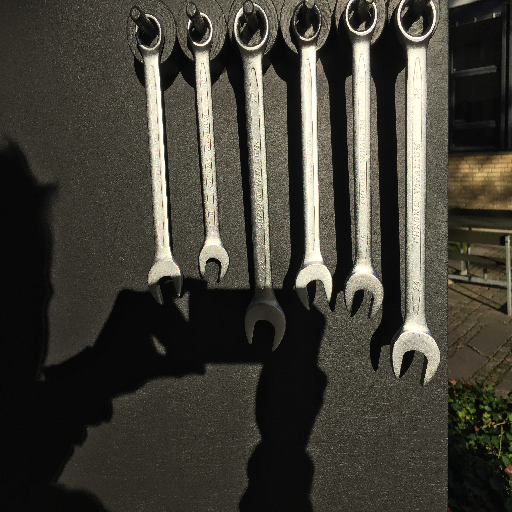bottom: (390, 322, 441, 388), (243, 298, 287, 354), (343, 263, 385, 320), (145, 256, 184, 307), (293, 262, 334, 310), (196, 238, 231, 283)
top: (231, 1, 272, 55), (394, 1, 441, 46), (289, 1, 324, 48), (132, 13, 168, 56), (342, 1, 380, 41), (186, 11, 215, 51)
